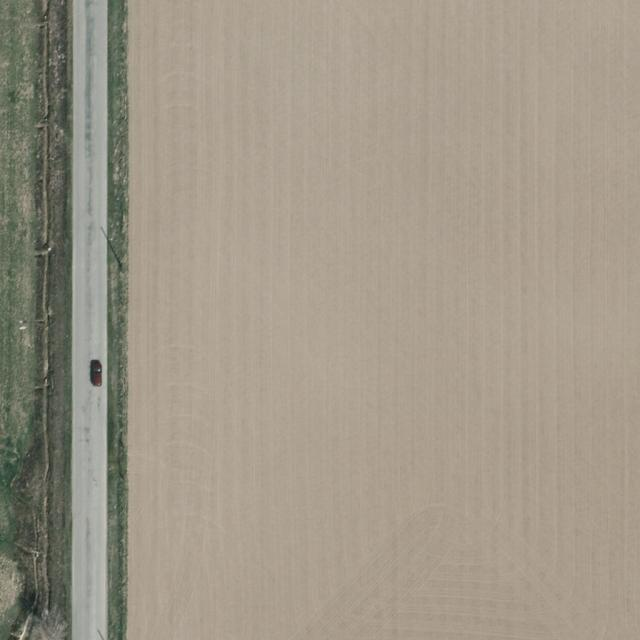vehicle: (92, 364, 102, 386)
